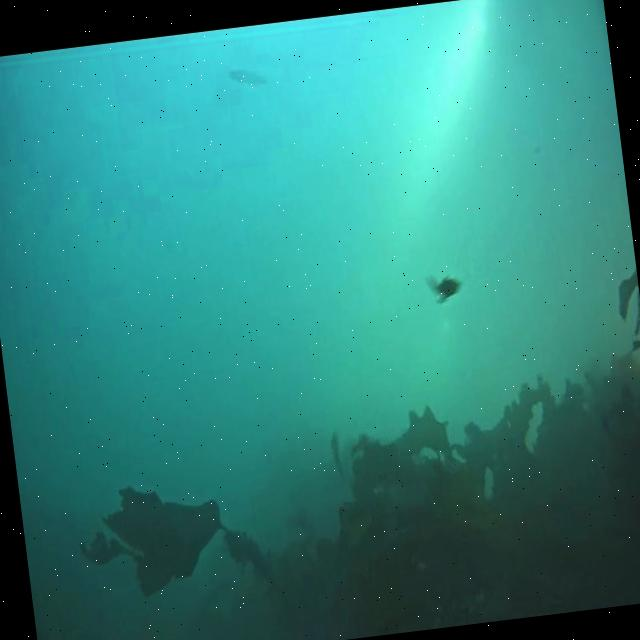fish: (228, 66, 265, 91)
